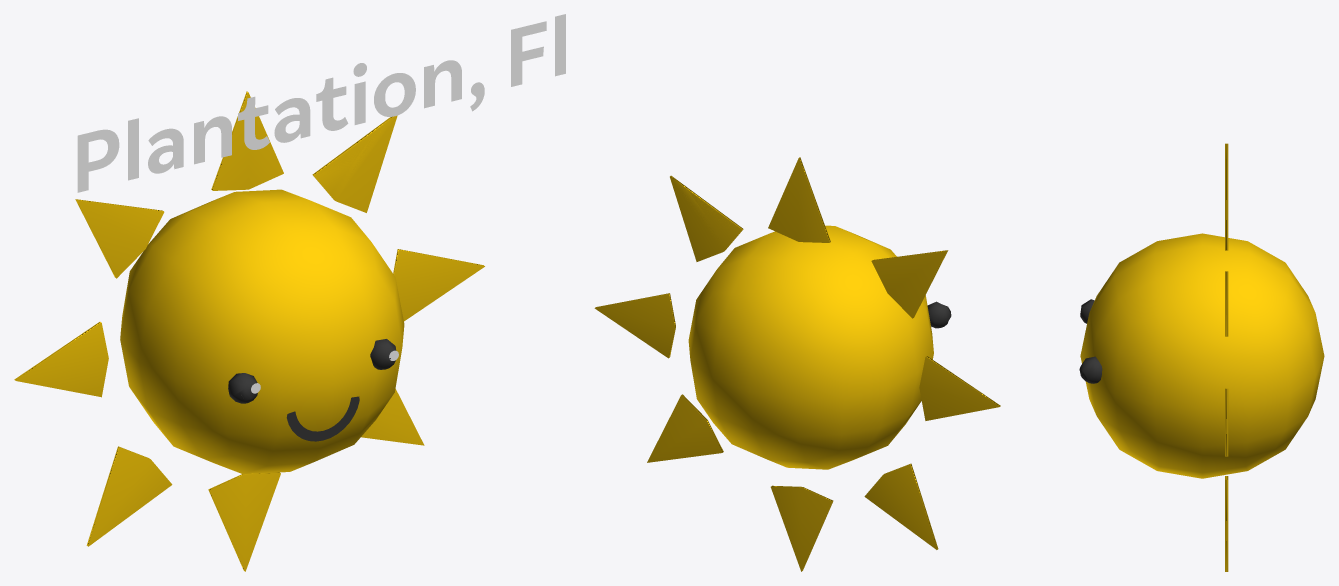
Rendered from sunny_plantation.glb.
The picture shows the model from 3 angles, left to right: view 1: azimuth 30°, elevation 25°; view 2: azimuth 150°, elevation 25°; view 3: azimuth 270°, elevation 25°; orthographic projection. The views are drawn at different scales.
Visible parts, largest first — view 1: PM3D_Sphere3D1_3, _Fl, PM3D_Sphere3D5; view 2: PM3D_Sphere3D1_3; view 3: PM3D_Sphere3D1_3, PM3D_Sphere3D5.
Part boxes in pixels (x1,y1,x2,y2): PM3D_Sphere3D1_3: (14,91,484,571); _Fl: (77,14,565,192); PM3D_Sphere3D5: (228,339,398,441); PM3D_Sphere3D1_3: (594,157,1000,571); PM3D_Sphere3D1_3: (1080,143,1324,571); PM3D_Sphere3D5: (1079,299,1102,383).
Size of the model in its own units: 6.76 by 7.1 by 3.41.
Materials: 3 (3 with a texture image).
